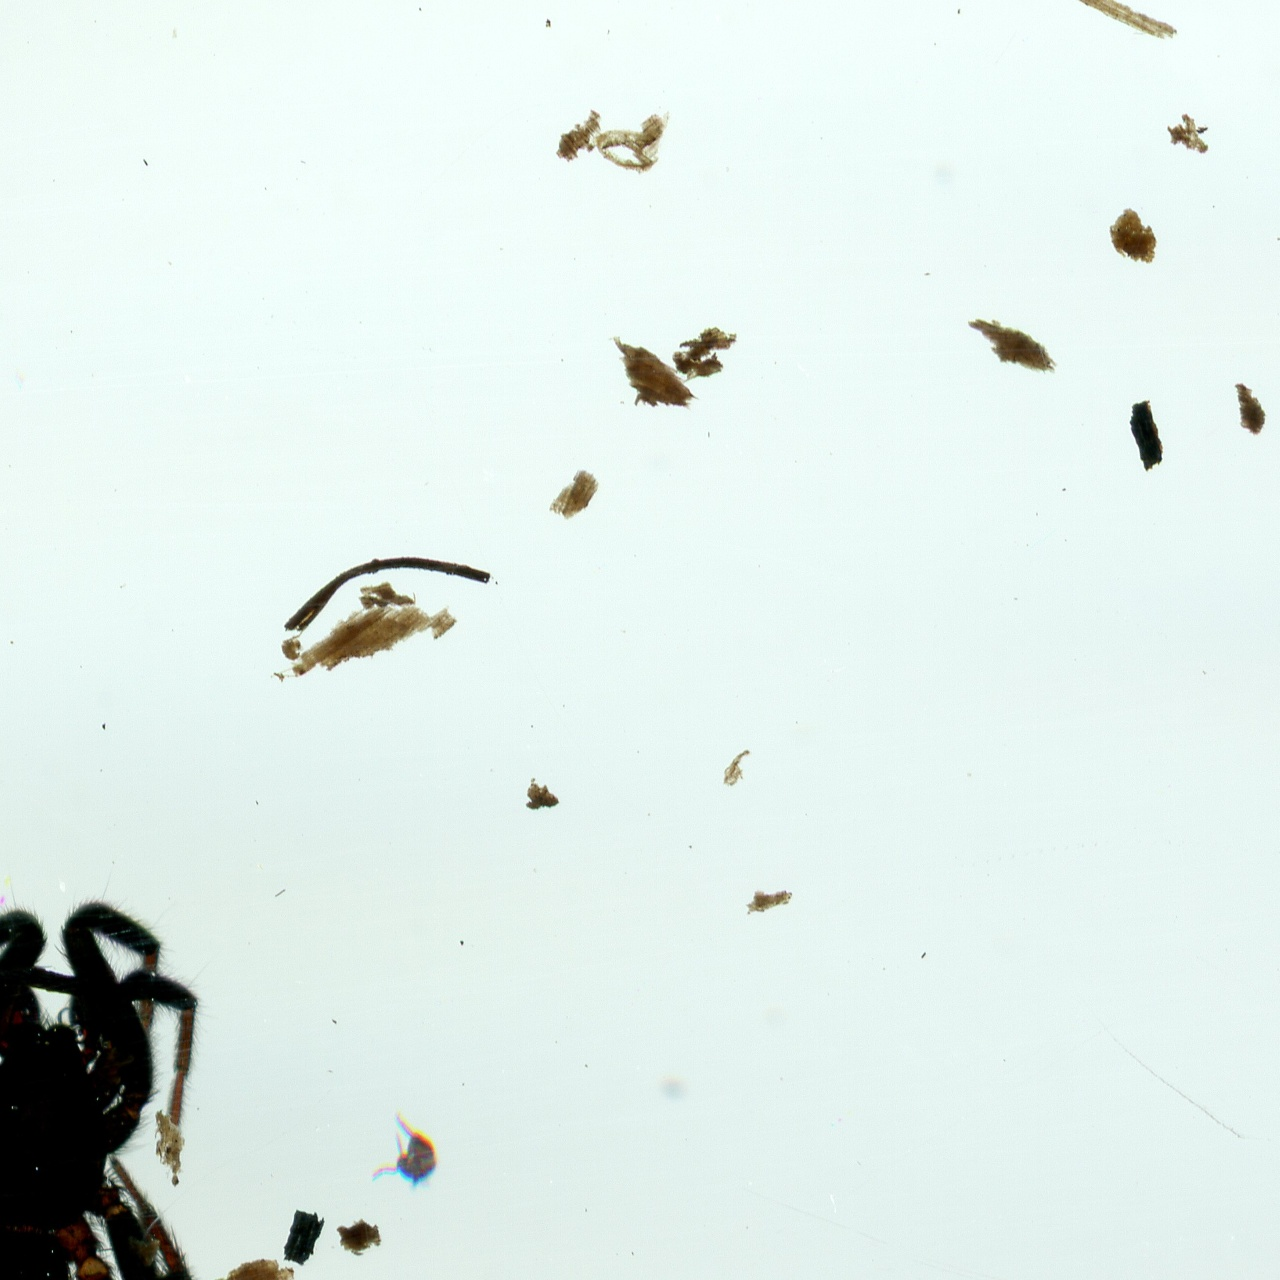arthropod: (0, 865, 223, 1280), (371, 1110, 445, 1194)
